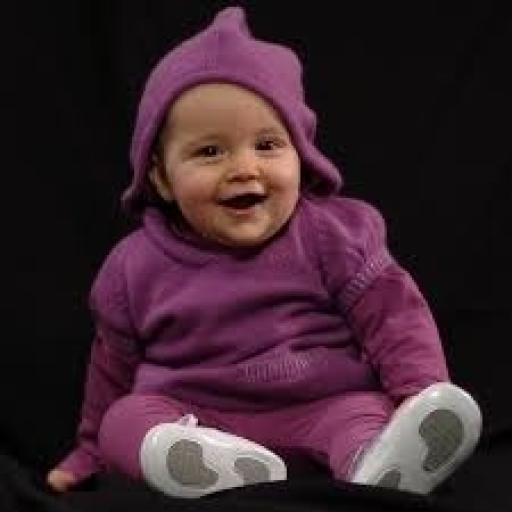laughing: (43, 5, 487, 505)
